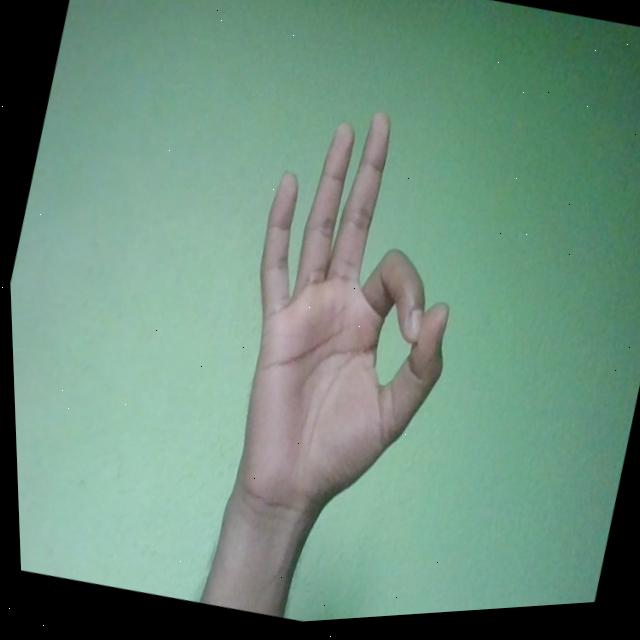Ok: (193, 89, 502, 553)
